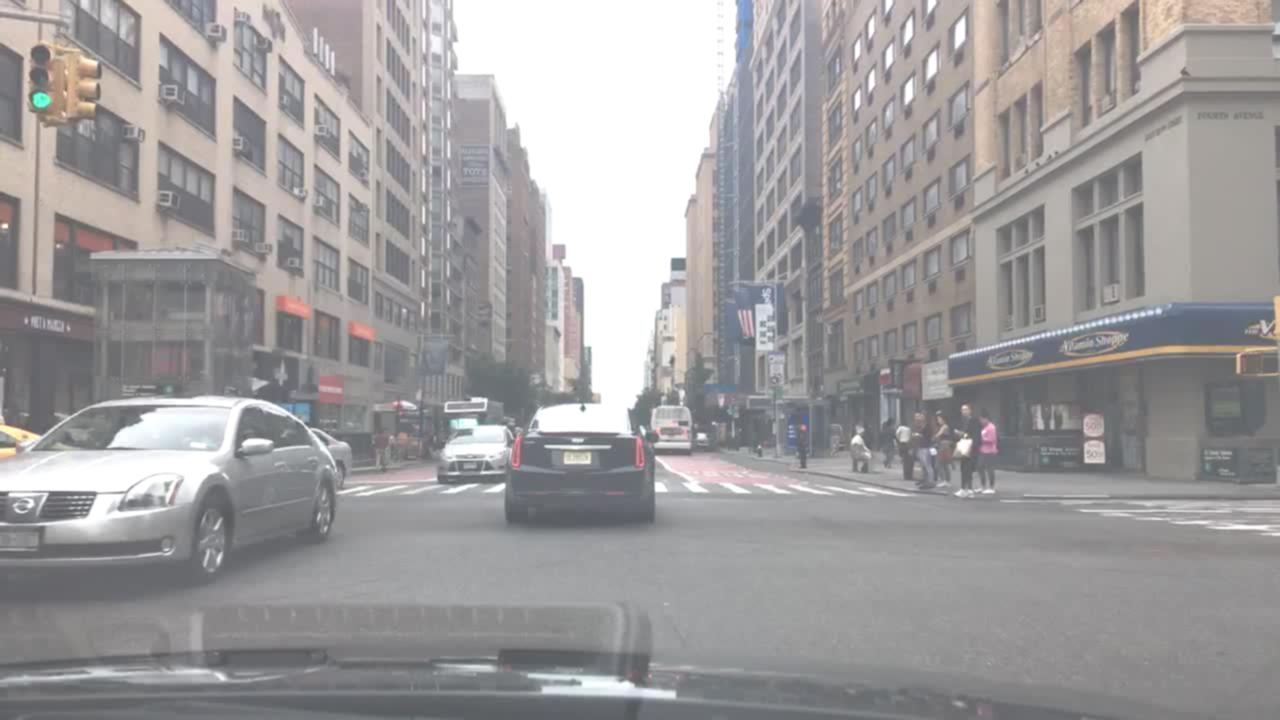Nissan: (7, 494, 37, 518)
cadillac: (563, 433, 593, 451)
